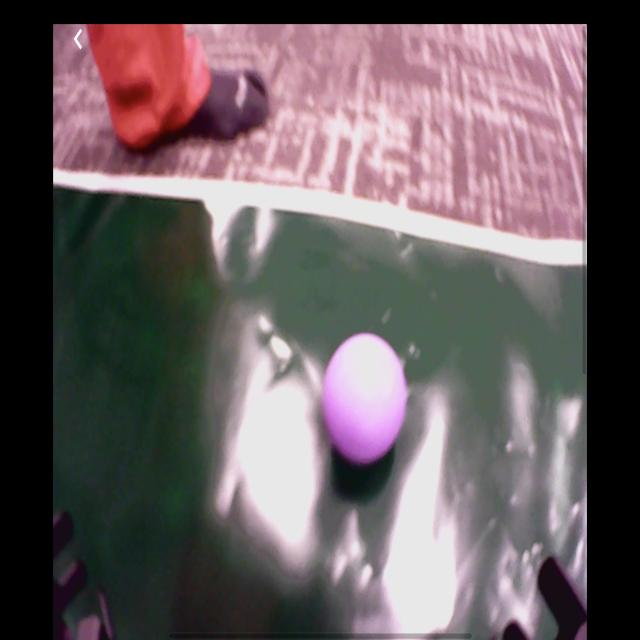ball: (325, 336, 411, 464)
